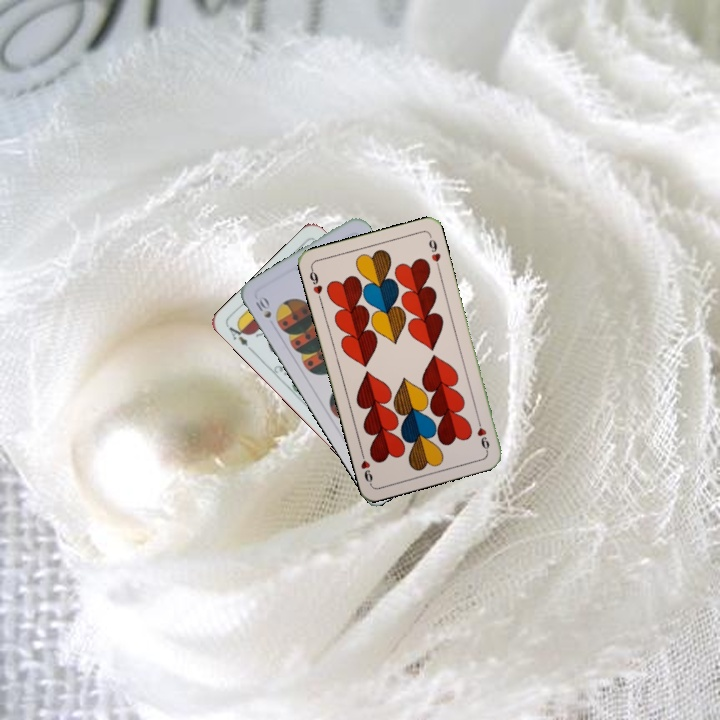EA: (225, 319, 256, 355)
H9: (305, 264, 325, 304), (473, 414, 492, 454)
S10: (251, 292, 274, 321)
